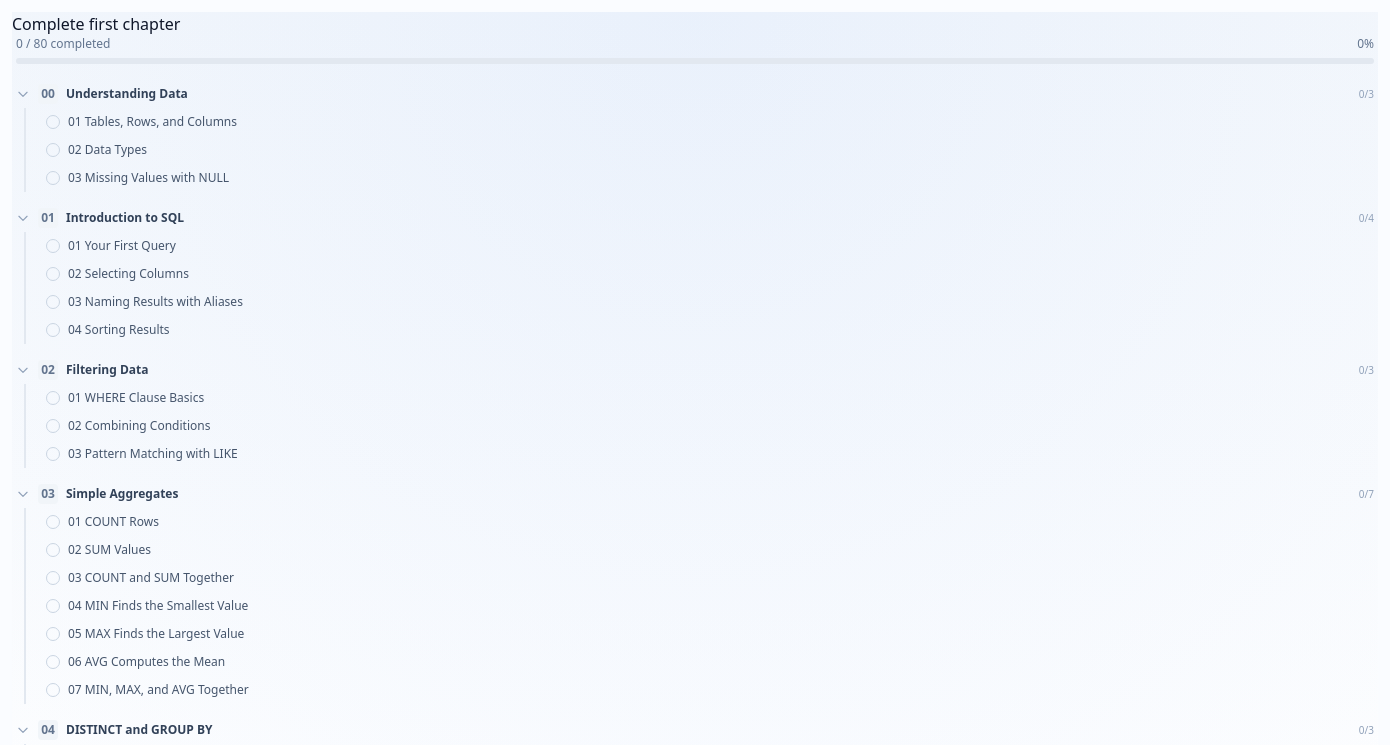
Scenario: LessonNav › allows individual chapters to be collapsed and expanded
expect the button "01 Tables, Rows, and Columns" is shown: met, box [38,108,1378,136]
Click the button "00 Understanding Data 0/3" at (127, 94), box [12,80,1378,108]
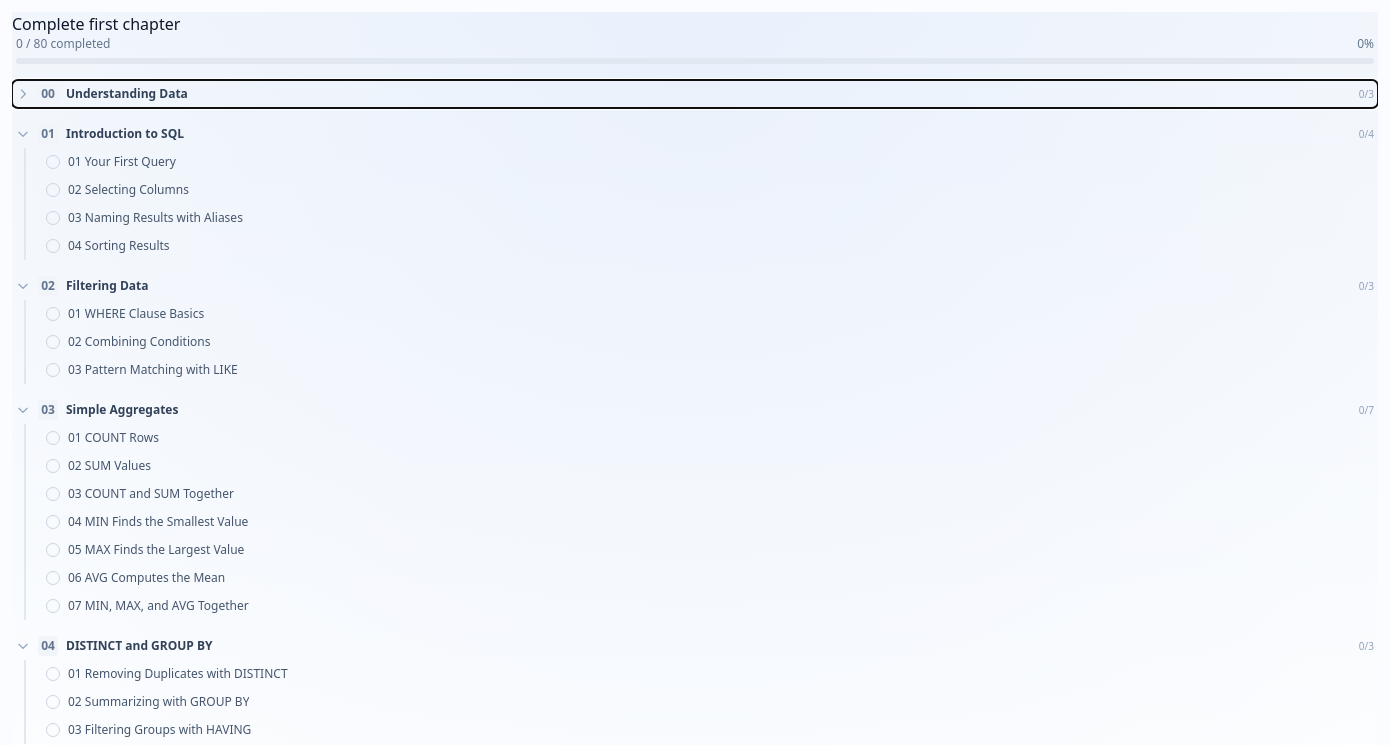
expect the button "Tables, Rows, and Columns" is gone: met
Click the button "00 Understanding Data 0/3" at (127, 94), box [12,80,1378,108]
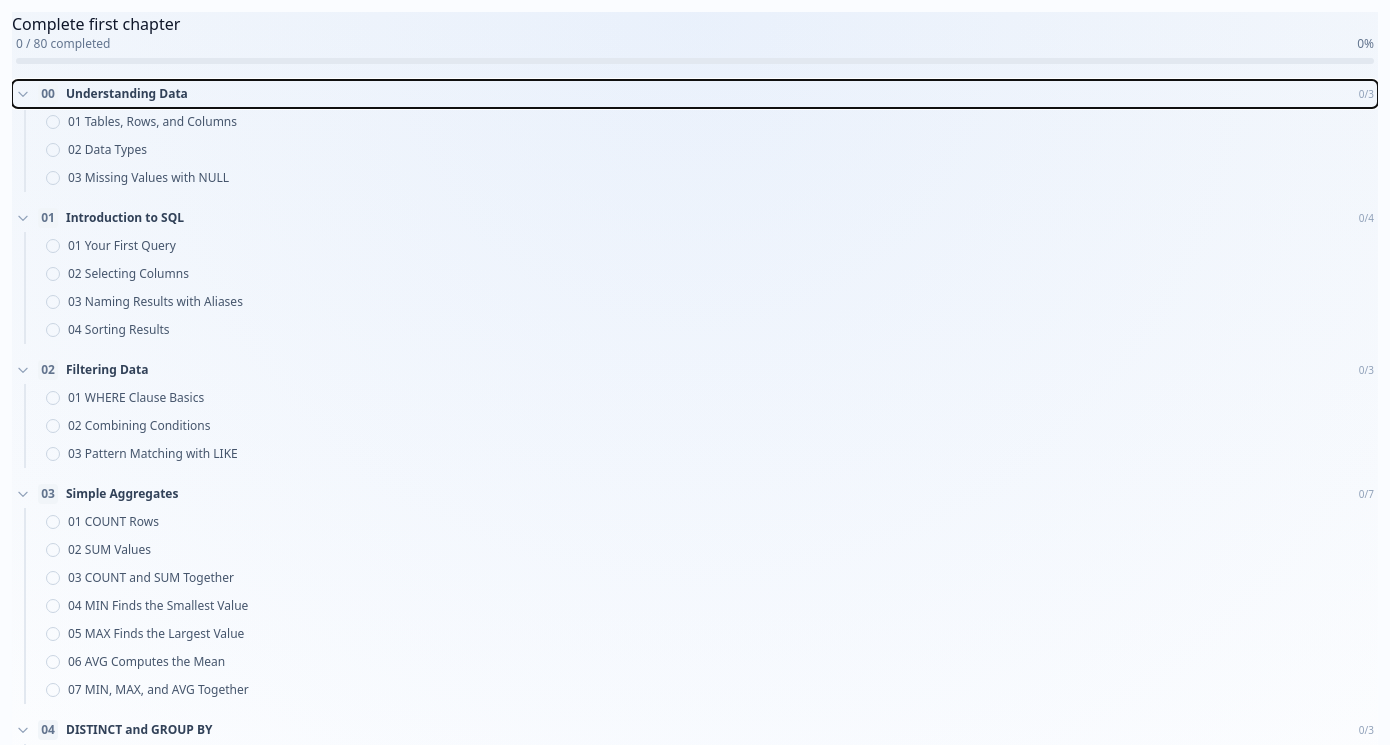
expect the button "01 Tables, Rows, and Columns" is shown: met, box [38,108,1378,136]
